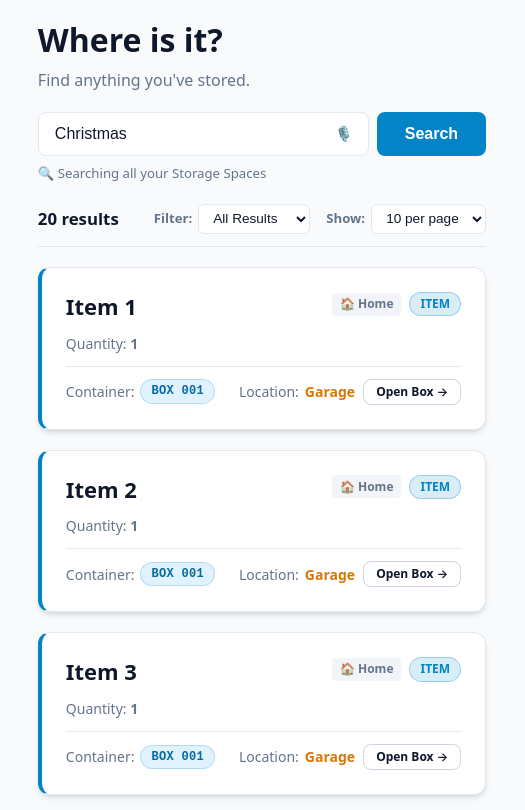
Test case: WorkspaceSearch Usability Suite › changes page size and resets page to 1
Select "20 per page" in the dropdown named "results per page": (429, 219) [371,204,486,234]
(page scrolled)
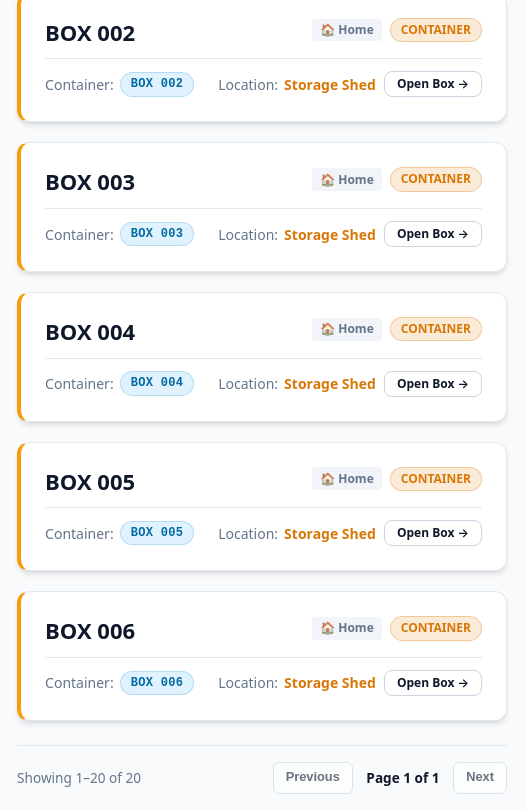
expect the text "Showing 1–20 of 20" is shown: met, box [17,768,141,788]
expect the text "Page 1 of 1" is shown: met, box [361,768,445,788]
